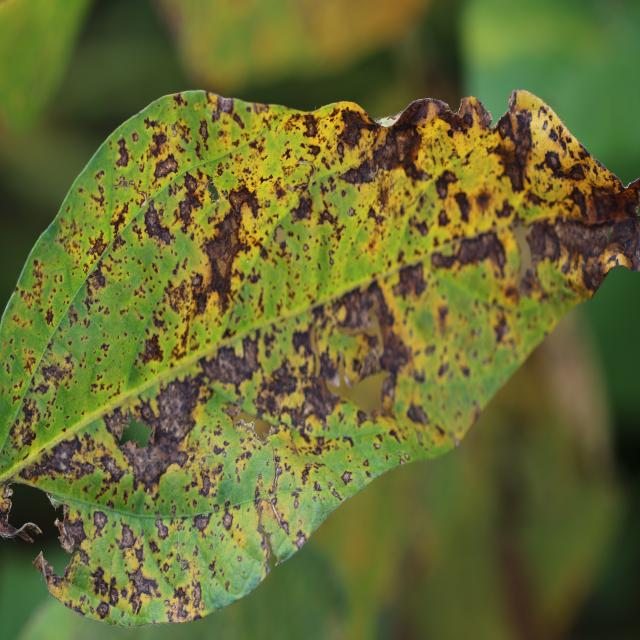Bacterial_Blight: (103, 378, 208, 493), (537, 212, 640, 290), (197, 186, 260, 313), (20, 430, 108, 485), (158, 528, 213, 611), (491, 109, 534, 194), (580, 179, 640, 226), (332, 107, 376, 160), (523, 219, 564, 274), (298, 371, 339, 423), (123, 561, 163, 611), (376, 323, 413, 377), (397, 97, 456, 129), (143, 200, 174, 251), (261, 495, 292, 544), (164, 277, 194, 318), (395, 260, 426, 297), (37, 360, 73, 391), (84, 260, 111, 299), (137, 333, 163, 367), (289, 193, 315, 225), (84, 232, 110, 261), (450, 190, 472, 222), (116, 520, 138, 550), (153, 155, 178, 180), (375, 176, 393, 210), (20, 396, 41, 425), (406, 401, 429, 426), (114, 135, 130, 168), (474, 189, 493, 214), (436, 304, 450, 331), (92, 509, 108, 532), (215, 96, 235, 114), (198, 119, 210, 145), (95, 600, 110, 619), (437, 208, 450, 227), (44, 307, 55, 327), (273, 463, 283, 485), (341, 470, 354, 485), (99, 341, 110, 355), (191, 275, 201, 289), (347, 206, 356, 217), (132, 132, 139, 142)
Soybean: (0, 91, 640, 627)
